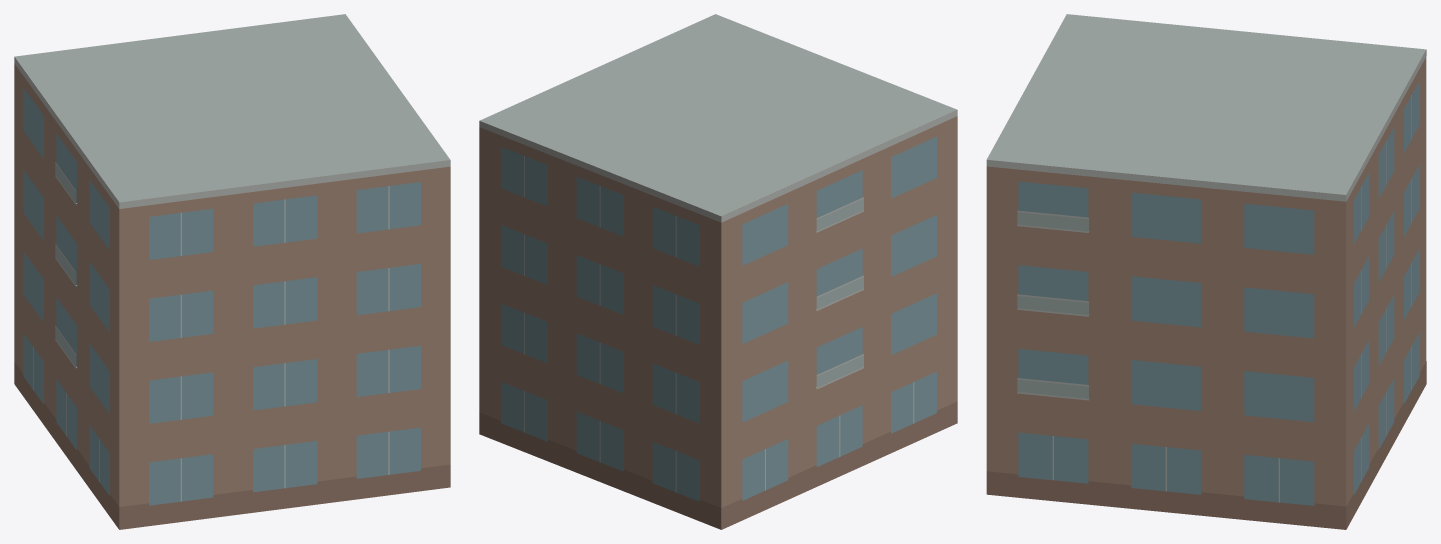
Rendered from residential-88e86fe3-19bf-428a-9b63-322b8e68ff22.glb.
3 renders of one model, left to right at view 1: azimuth 30°, elevation 25°; view 2: azimuth 150°, elevation 25°; view 3: azimuth 270°, elevation 25°, orthographic. The views are drawn at different scales.
Visible parts, largest first — view 1: residential-88e86fe3-19bf-428a-9b63-322b8e68ff22.tmp; view 2: residential-88e86fe3-19bf-428a-9b63-322b8e68ff22.tmp; view 3: residential-88e86fe3-19bf-428a-9b63-322b8e68ff22.tmp.
Boxes of the visible parts, x1,y1,x2,y2 form: residential-88e86fe3-19bf-428a-9b63-322b8e68ff22.tmp: (14,14,450,529); residential-88e86fe3-19bf-428a-9b63-322b8e68ff22.tmp: (479,14,957,529); residential-88e86fe3-19bf-428a-9b63-322b8e68ff22.tmp: (986,14,1426,529).
Bounding box in the file's own units: 14.16 × 12.2 × 14.54.
